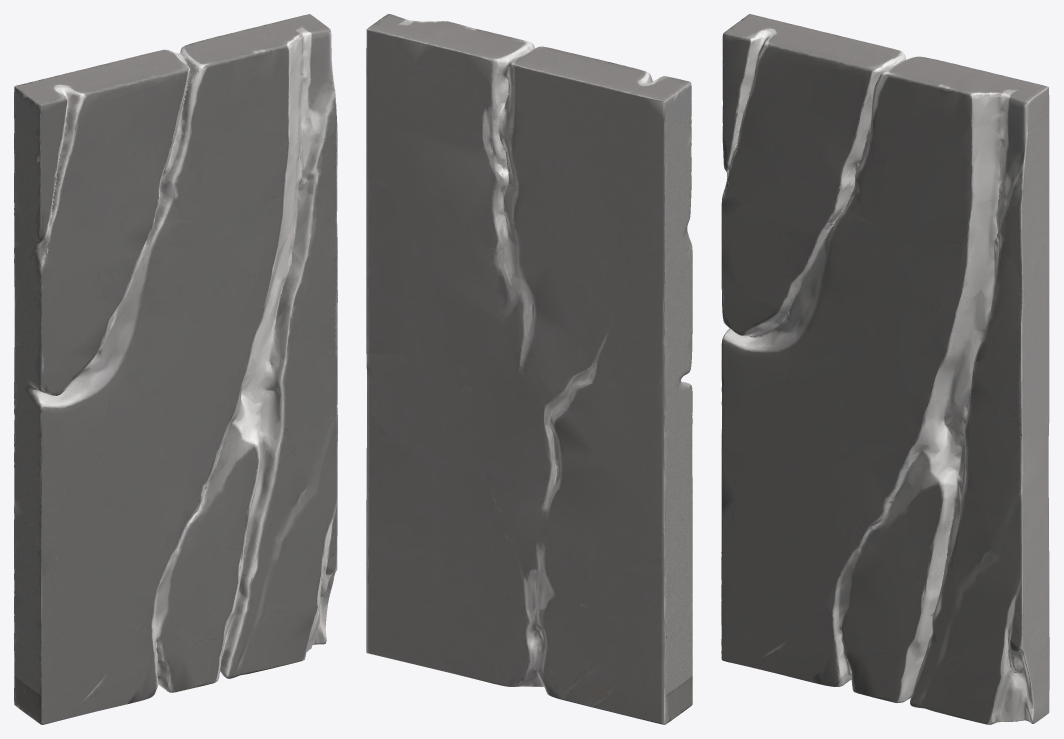
The model's file is TIL-KAJ-GP00215.glb.
3 views of the same model, side by side, from view 1: azimuth 30°, elevation 25°; view 2: azimuth 150°, elevation 25°; view 3: azimuth 330°, elevation 25° (orthographic).
Parts seen in each view (by area): view 1: mesh_node; view 2: mesh_node; view 3: mesh_node.
Part boxes in pixels (x1,y1,x2,y2): mesh_node: (14, 14, 337, 724); mesh_node: (366, 14, 692, 724); mesh_node: (721, 14, 1049, 724).
Bounding box in the file's own units: 0.6011 × 1.2 × 0.1039.
1 material, 1 textured.
